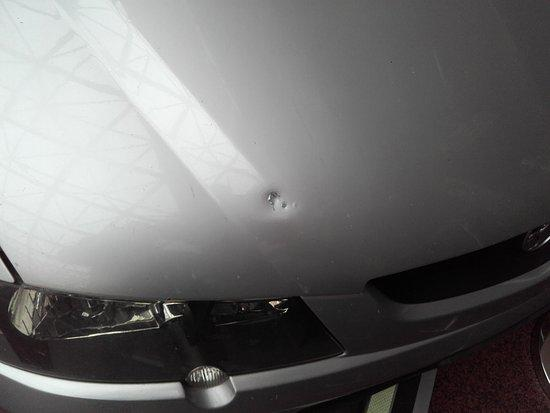bonnet-dent: (97, 2, 503, 360)
